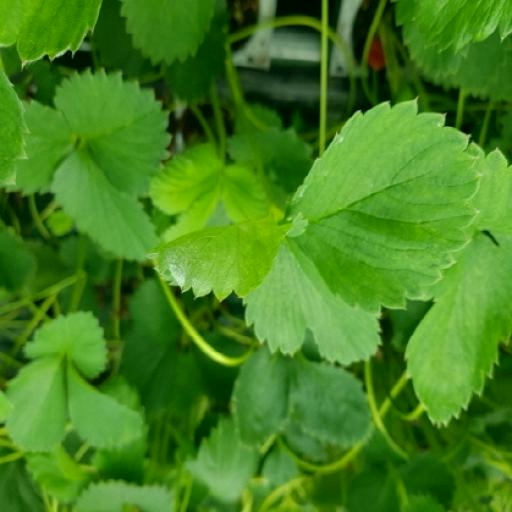Powdery Mildew Leaf: (227, 210, 369, 294)
